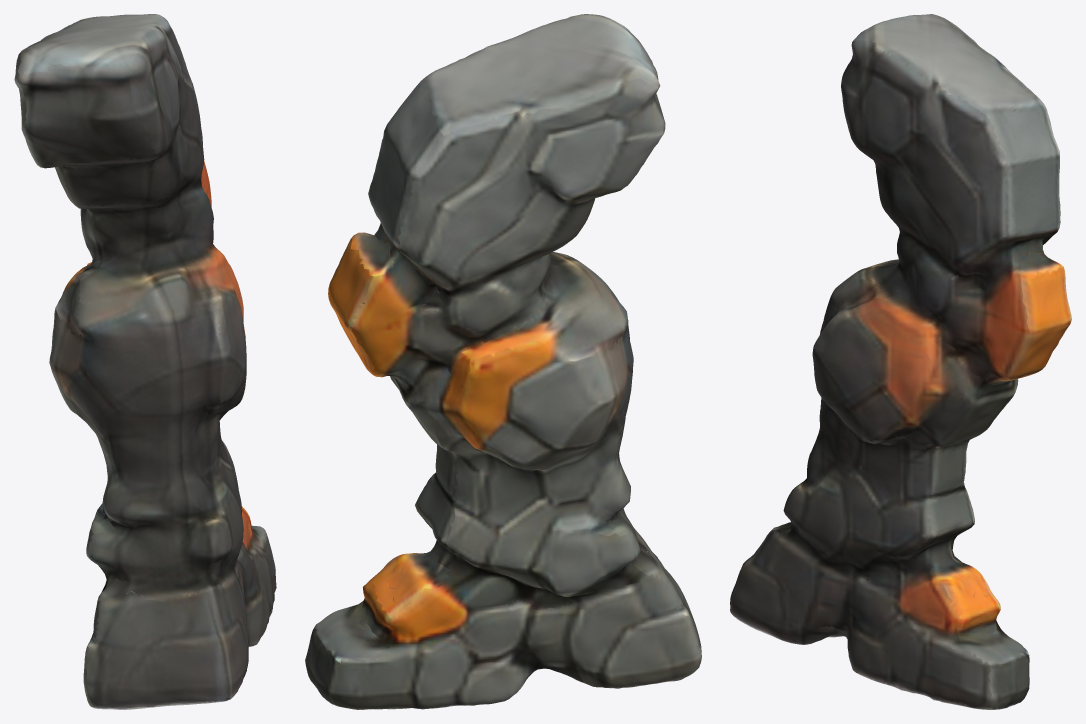
The model's file is L_Leg_2.glb.
3 views of the same model, side by side, from view 1: azimuth 30°, elevation 25°; view 2: azimuth 150°, elevation 25°; view 3: azimuth 270°, elevation 25° (orthographic). The views are drawn at different scales.
Visible parts, largest first — view 1: world; view 2: world; view 3: world.
Boxes of the visible parts, bbox=[...] form: world: bbox=[14, 14, 276, 709]; world: bbox=[305, 14, 701, 709]; world: bbox=[730, 14, 1071, 709].
Size of the model in its own units: 0.45 by 0.9441 by 0.4881.
Materials: 1 (1 with a texture image).
